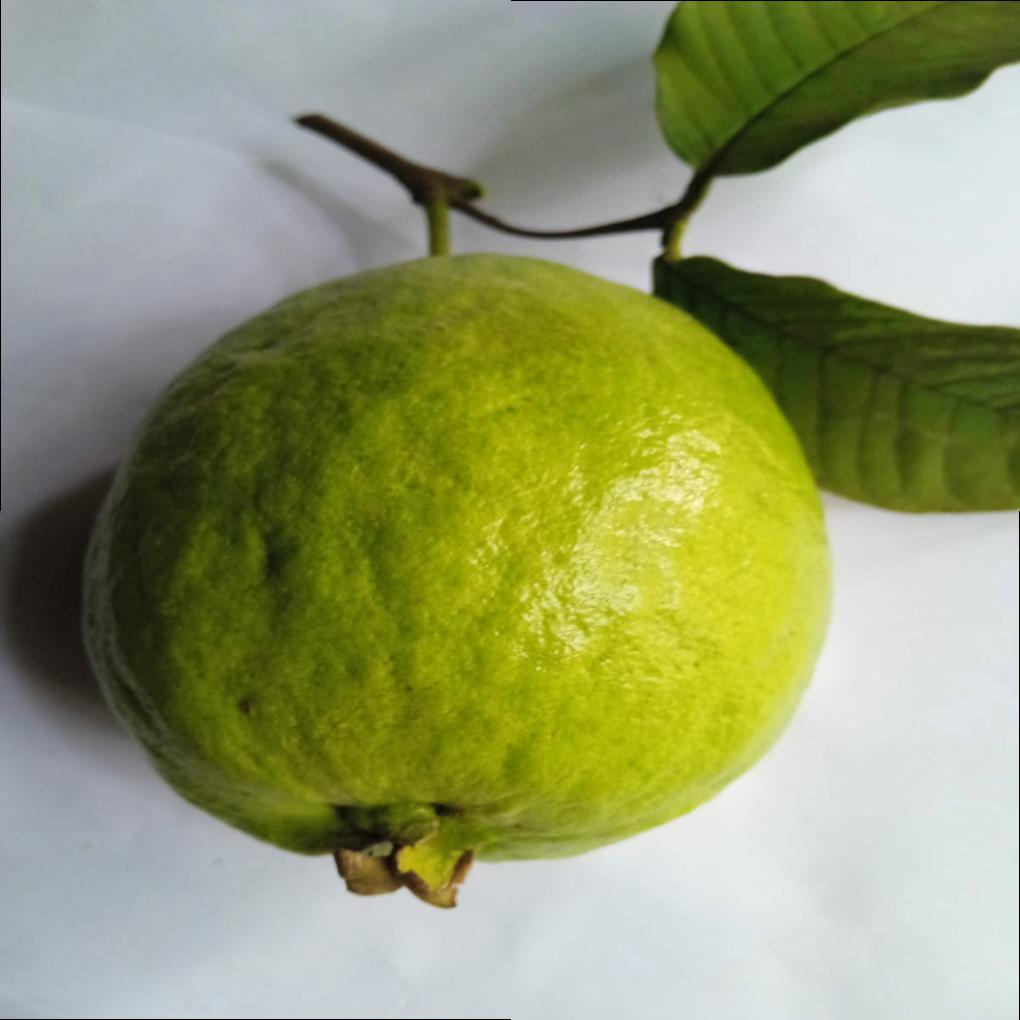FreshGuava: (78, 252, 836, 912)
